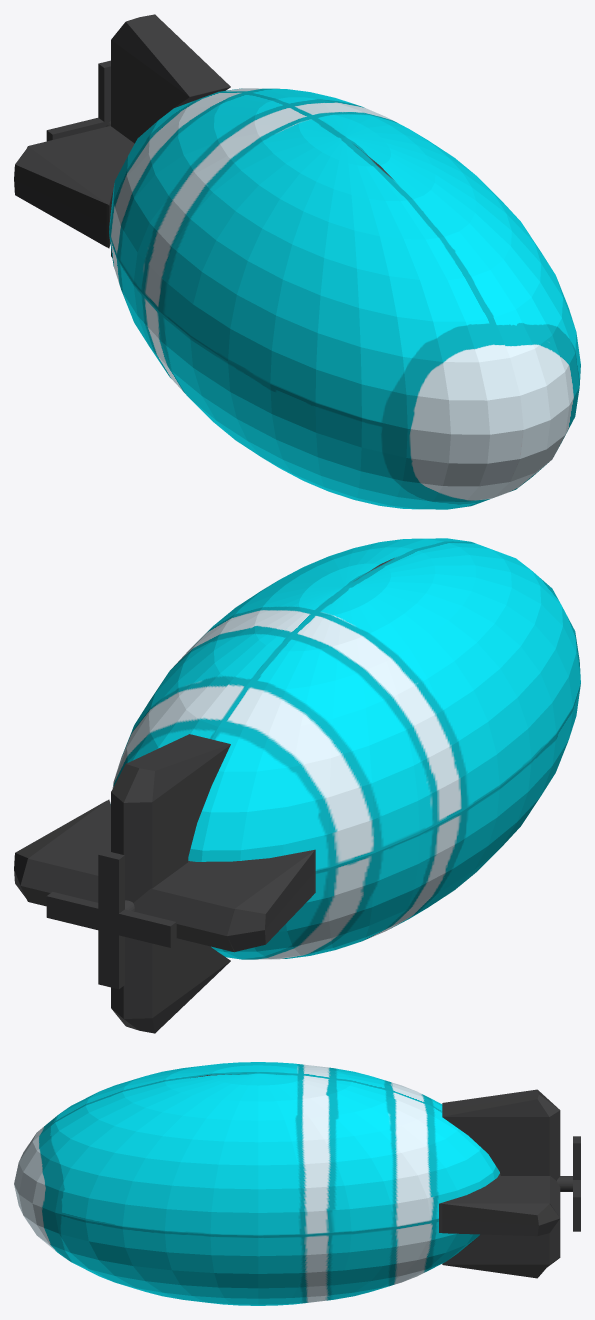
Rendered from moab.obj.
3 views of the same model, one above another, from view 1: azimuth 30°, elevation 25°; view 2: azimuth 150°, elevation 25°; view 3: azimuth 270°, elevation 25° (orthographic). The views are drawn at different scales.
Visible parts, largest first — view 1: Sphere.035; view 2: Sphere.035; view 3: Sphere.035.
Boxes of the visible parts, bbox=[...] form: Sphere.035: bbox=[14, 14, 580, 509]; Sphere.035: bbox=[14, 538, 580, 1033]; Sphere.035: bbox=[14, 1062, 580, 1305].
Bounding box in the file's own units: 3 × 3 × 6.97.
Materials: 1 (1 with a texture image).
